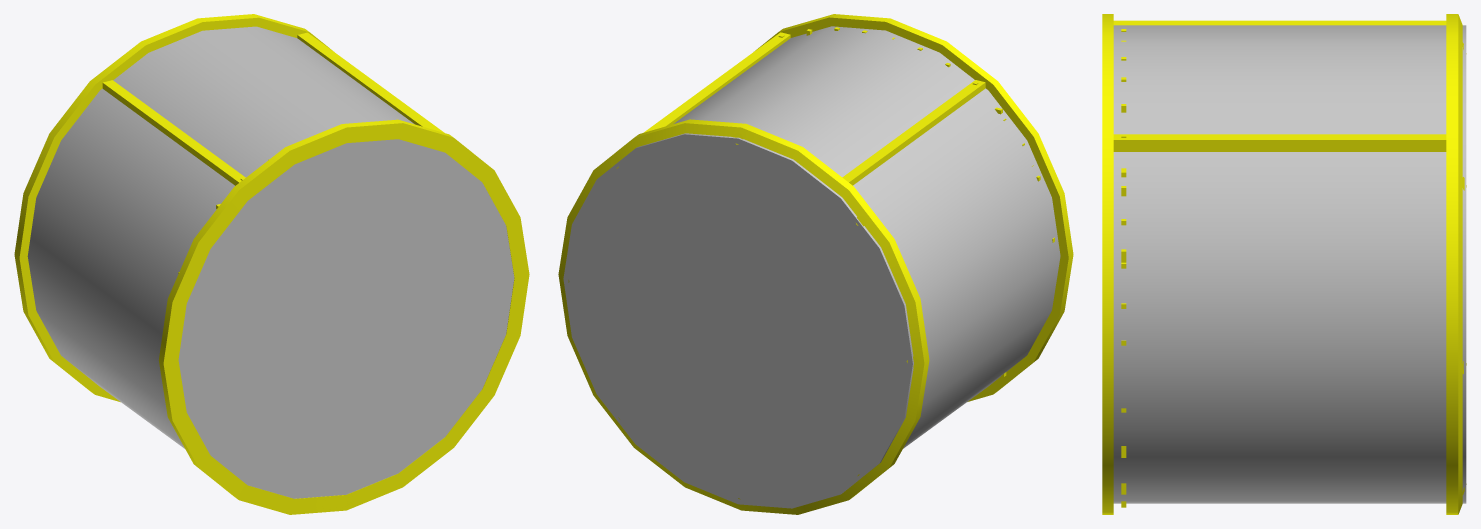
File: sm_hana_bas_supply_fan.glb
3 renders of one model, left to right at view 1: azimuth 30°, elevation 25°; view 2: azimuth 150°, elevation 25°; view 3: azimuth 270°, elevation 25°, orthographic. The views are drawn at different scales.
Visible parts, largest first — view 1: sm_color_common, sm_hana_bas_supply_fan_body; view 2: sm_color_common, sm_hana_bas_supply_fan_body; view 3: sm_color_common, sm_hana_bas_supply_fan_body.
Boxes of the visible parts, x1,y1,x2,y2 form: sm_color_common: (27,26,514,498); sm_hana_bas_supply_fan_body: (14,14,529,514); sm_color_common: (563,26,1060,508); sm_hana_bas_supply_fan_body: (558,14,1073,514); sm_color_common: (1113,25,1466,503); sm_hana_bas_supply_fan_body: (1102,14,1466,514).
Bounding box in the file's own units: 1.11 × 1.11 × 0.8.
Materials: 2 (1 with a texture image).
